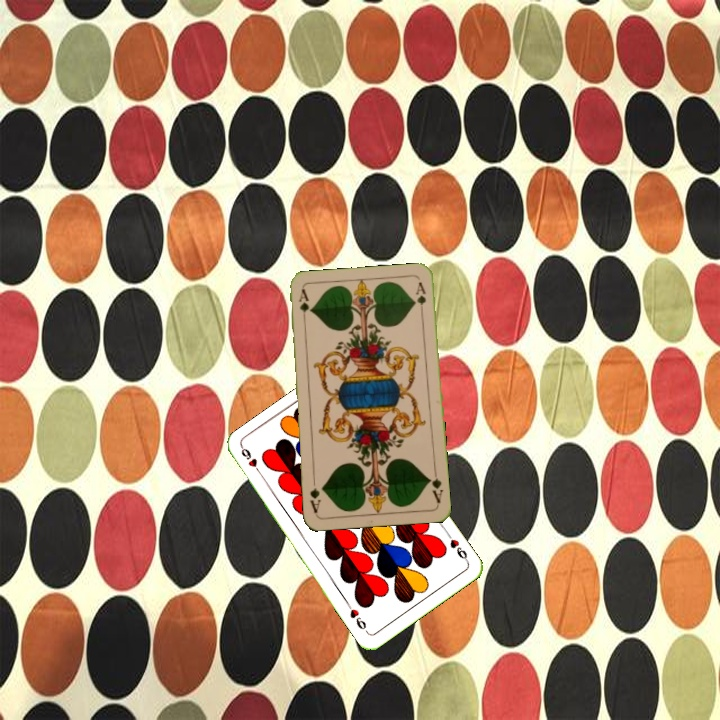GA: (425, 465, 445, 506), (294, 286, 311, 326)
H9: (237, 443, 265, 480), (443, 529, 471, 565)
